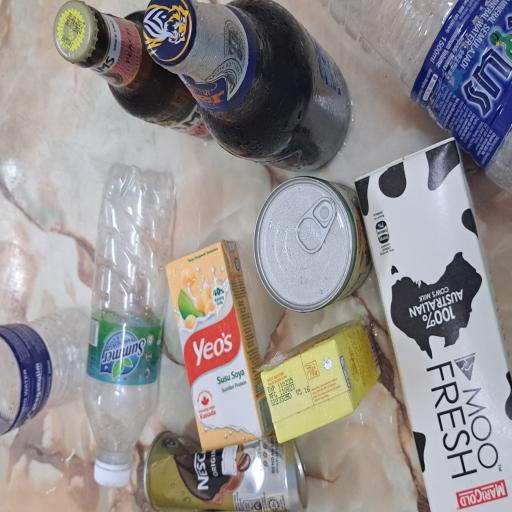can: (146, 336, 252, 500), (0, 187, 62, 404)
drink carton: (43, 219, 208, 351), (48, 344, 140, 506)
glass bottle: (256, 195, 384, 482), (284, 74, 379, 312)
plastic bottle: (42, 111, 264, 238), (254, 417, 384, 512), (55, 0, 146, 128)
plastic bottle cap: (16, 120, 39, 175)
pop tab: (194, 387, 235, 449)
